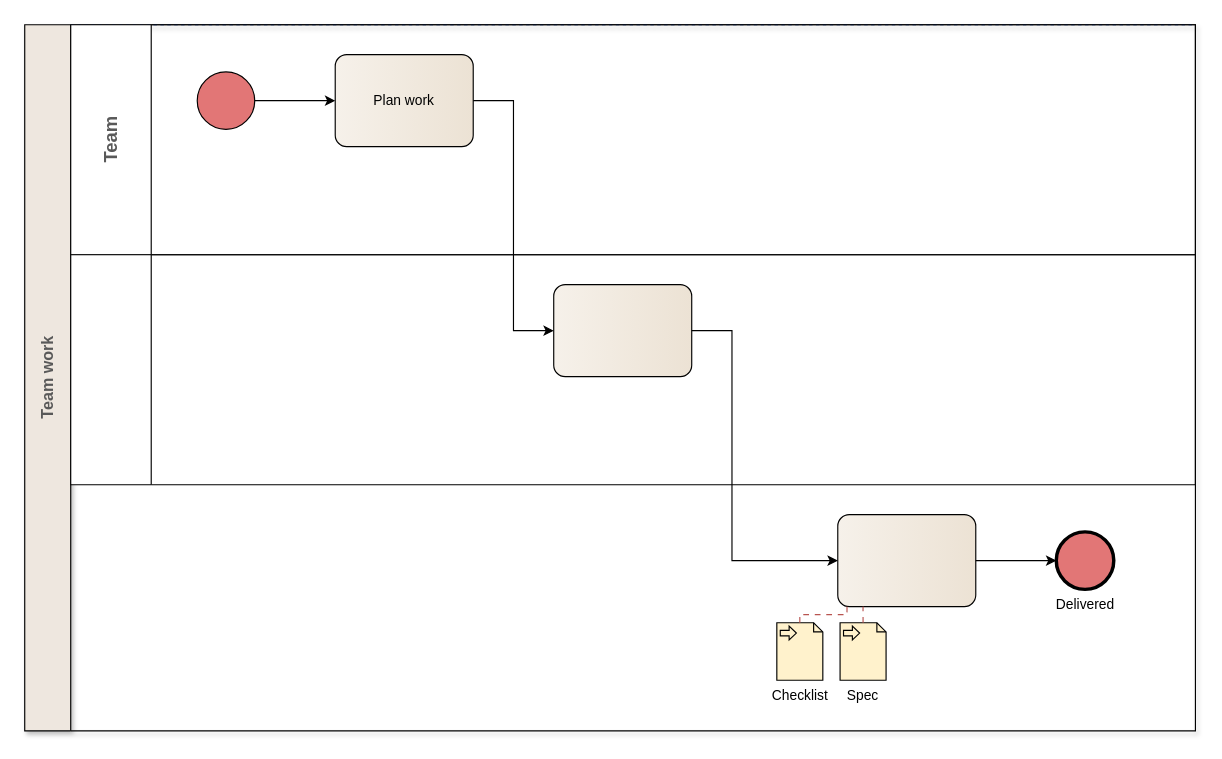
This 1222x759 diagram has some shape labels left out. Here are the shapes that lost their labels. From the top down, the centre of each, then its label:
the point at 225,100: Kick-off
the point at 622,330: Draft
the point at 906,560: Build
